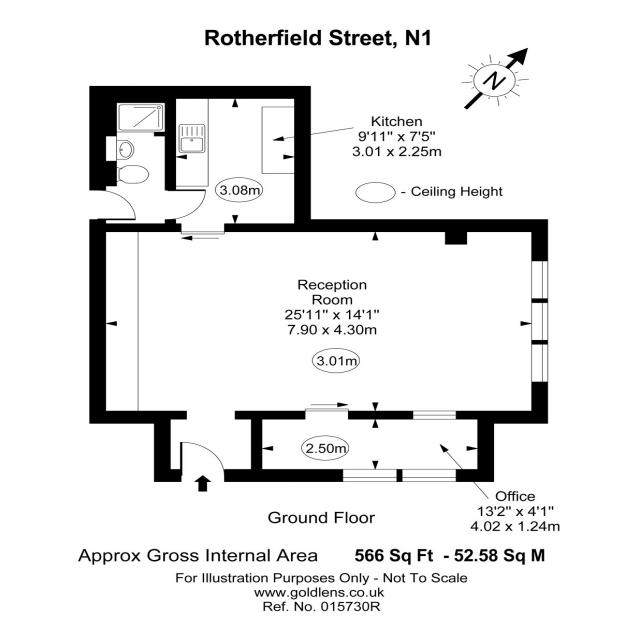DOOR: (179, 441, 228, 483), (88, 189, 138, 222), (164, 189, 208, 221)
ROOM: (87, 219, 549, 483)
WINDOW: (400, 468, 457, 483), (530, 301, 549, 343), (530, 260, 549, 302), (342, 469, 398, 483), (530, 343, 549, 383), (412, 410, 458, 420)
